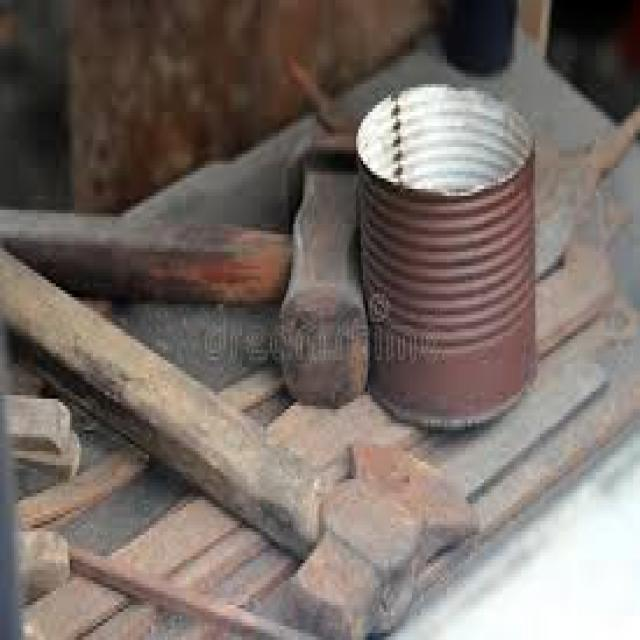hammer: (0, 133, 379, 406)
